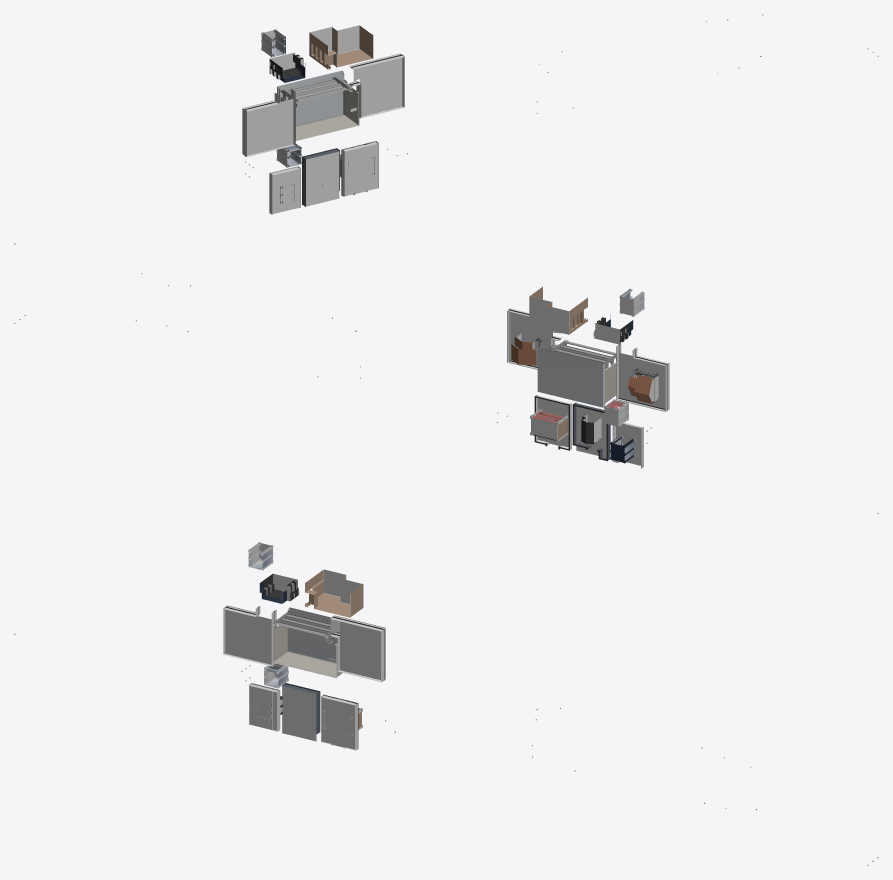
File: SM_000276_merge_w40h101_atlas1_1_6_ground_lv4.fbx
3 views of the same model, one above another, from view 1: azimuth 30°, elevation 25°; view 2: azimuth 150°, elevation 25°; view 3: azimuth 330°, elevation 25° (orthographic).
Visible parts, largest first — view 1: SM_000276.001; view 2: SM_000276.001; view 3: SM_000276.001.
Boxes of the visible parts, x1=… form: SM_000276.001: x1=14, y1=14, x2=878, y2=244; SM_000276.001: x1=14, y1=273, x2=878, y2=513; SM_000276.001: x1=14, y1=542, x2=878, y2=865.
Bounding box in the file's own units: 321 × 62.66 × 12.2.
